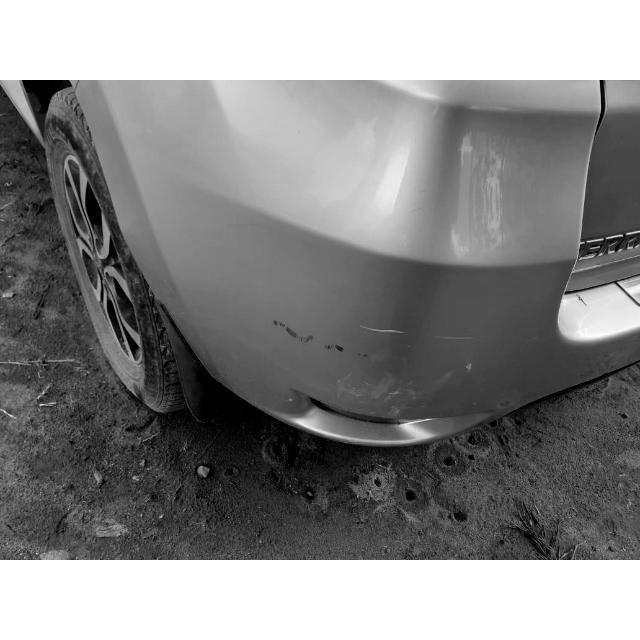rear-bumper-dent: (135, 83, 639, 455)
